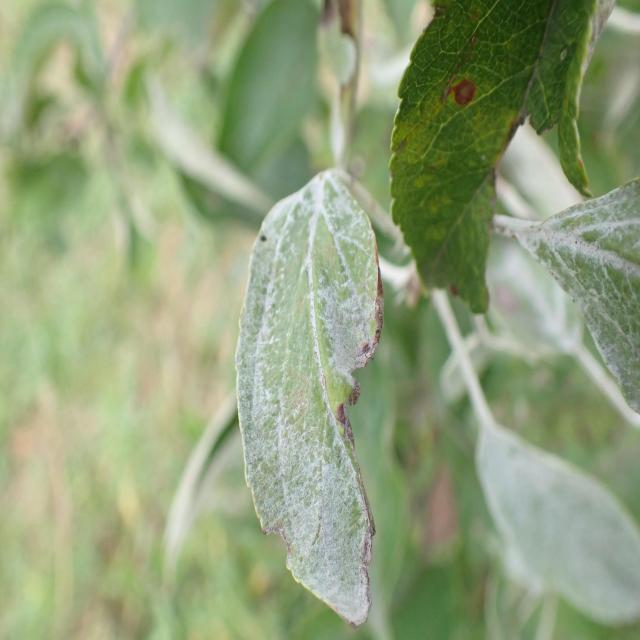Black Rot: (440, 63, 484, 124)
Powdery_mildew: (243, 180, 386, 620), (467, 410, 640, 629), (522, 176, 640, 398)
